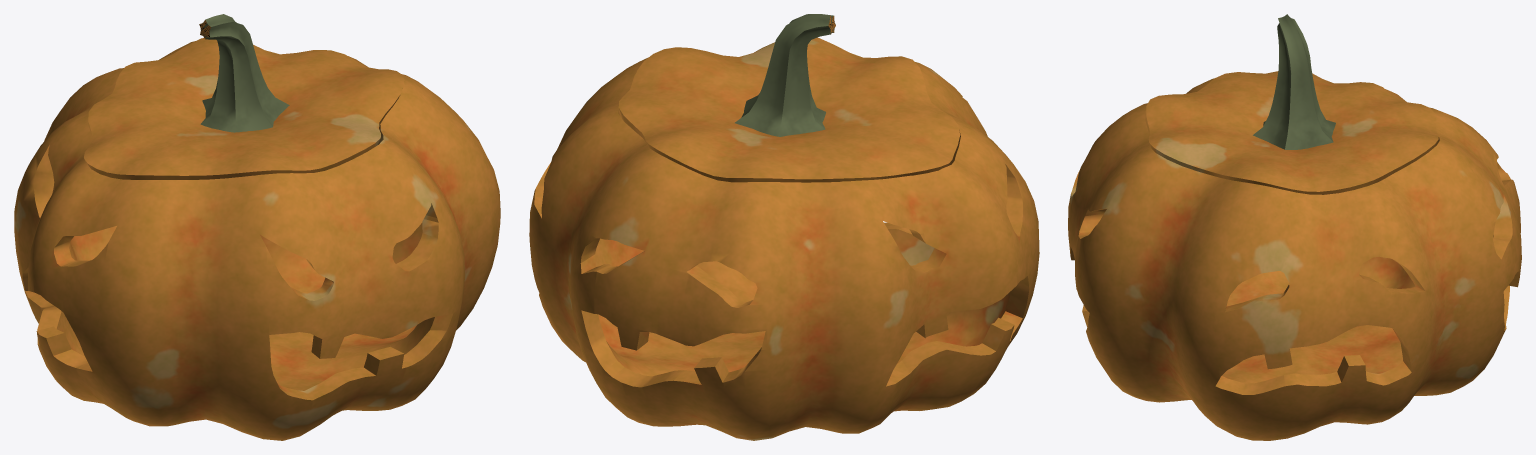
3 renders of one model, left to right at view 1: azimuth 30°, elevation 25°; view 2: azimuth 150°, elevation 25°; view 3: azimuth 270°, elevation 25°, orthographic. The views are drawn at different scales.
Parts seen in each view (by area): view 1: - Dynia; view 2: - Dynia; view 3: - Dynia.
Part boxes in pixels (x1,y1,x2,y2): - Dynia: [14, 14, 500, 440]; - Dynia: [529, 14, 1039, 440]; - Dynia: [1068, 14, 1521, 440].
Size of what is drawn, in the model's own units: 0.203 by 0.1595 by 0.1926.
Materials: 1 (1 with a texture image).
